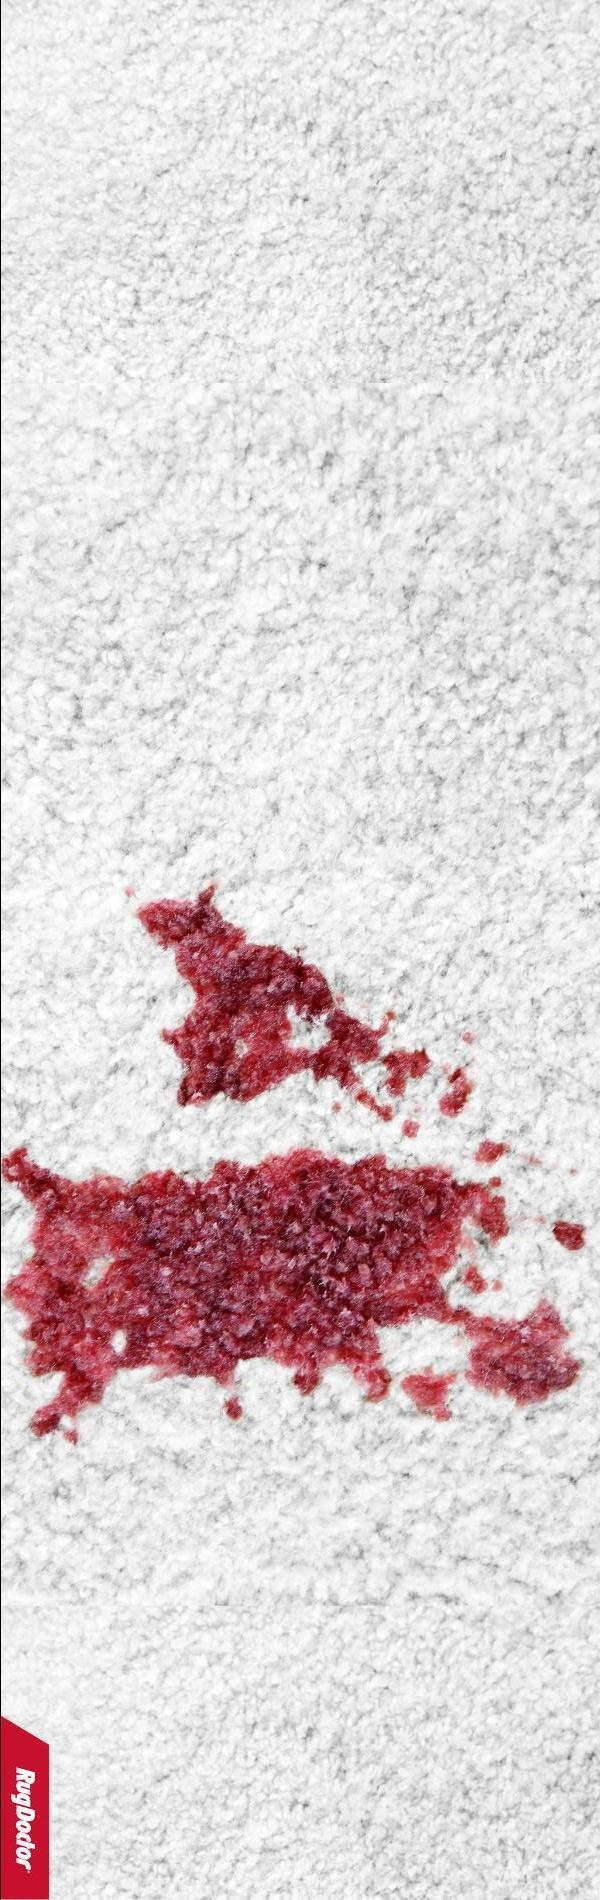Fire: (1, 1144, 583, 1438), (135, 880, 432, 1122), (400, 1366, 457, 1424), (438, 1066, 474, 1118), (473, 1139, 512, 1167), (461, 1264, 488, 1294), (221, 1395, 242, 1423)
